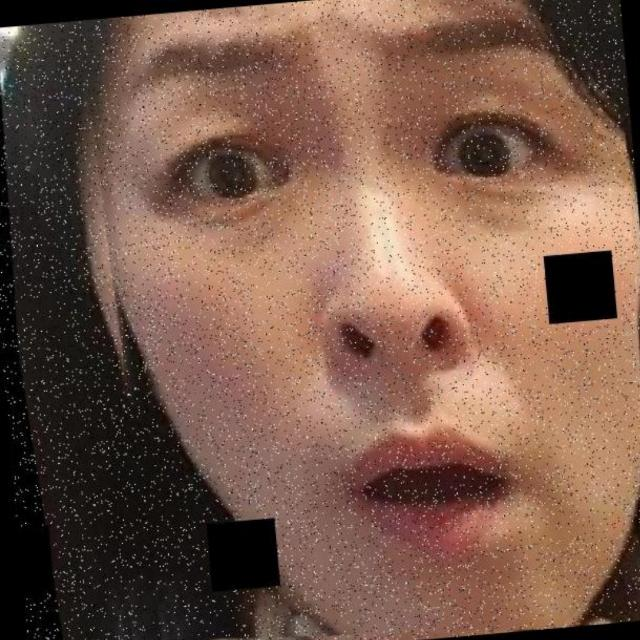Surprised: (110, 4, 591, 639)
